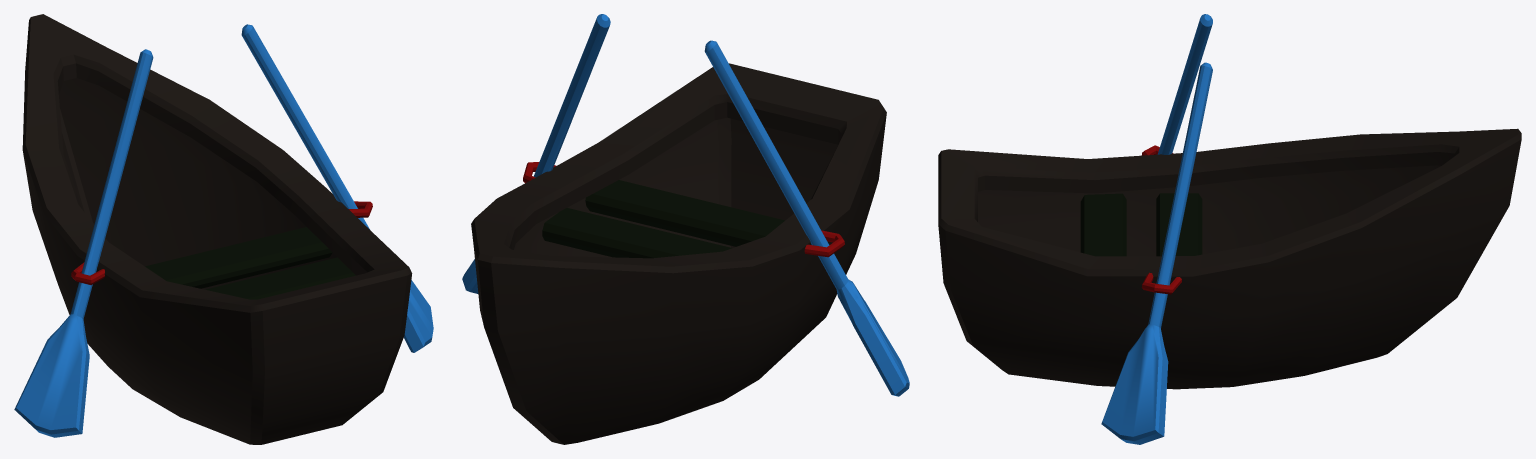
File: Boat.FBX
3 renders of one model, left to right at view 1: azimuth 30°, elevation 25°; view 2: azimuth 150°, elevation 25°; view 3: azimuth 270°, elevation 25°, orthographic. The views are drawn at different scales.
Visible parts, largest first — view 1: Boat; view 2: Boat; view 3: Boat.
Boxes of the visible parts, x1=… form: Boat: x1=14, y1=14, x2=433, y2=444; Boat: x1=462, y1=14, x2=909, y2=444; Boat: x1=938, y1=14, x2=1521, y2=444.
Size of the model in its own units: 999 by 1250 by 749.
